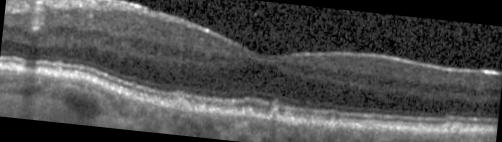retinal_drusen: (175, 100, 190, 111), (240, 106, 255, 116), (272, 110, 278, 120), (329, 119, 335, 128)
